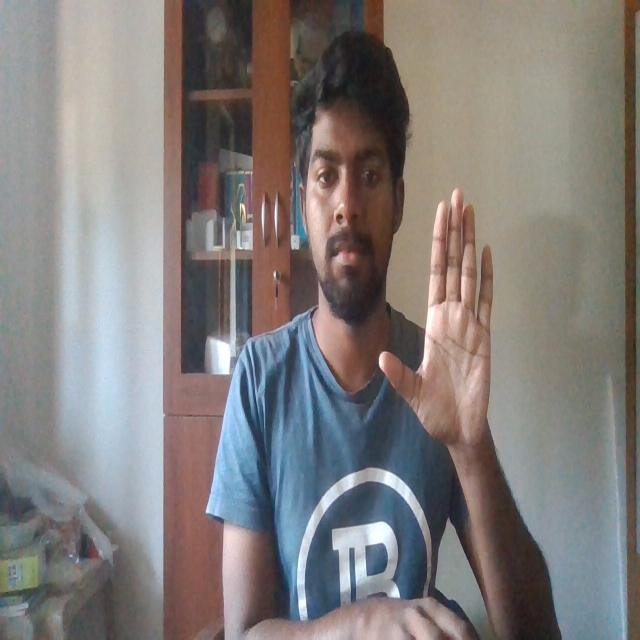Hello: (378, 183, 499, 456)
